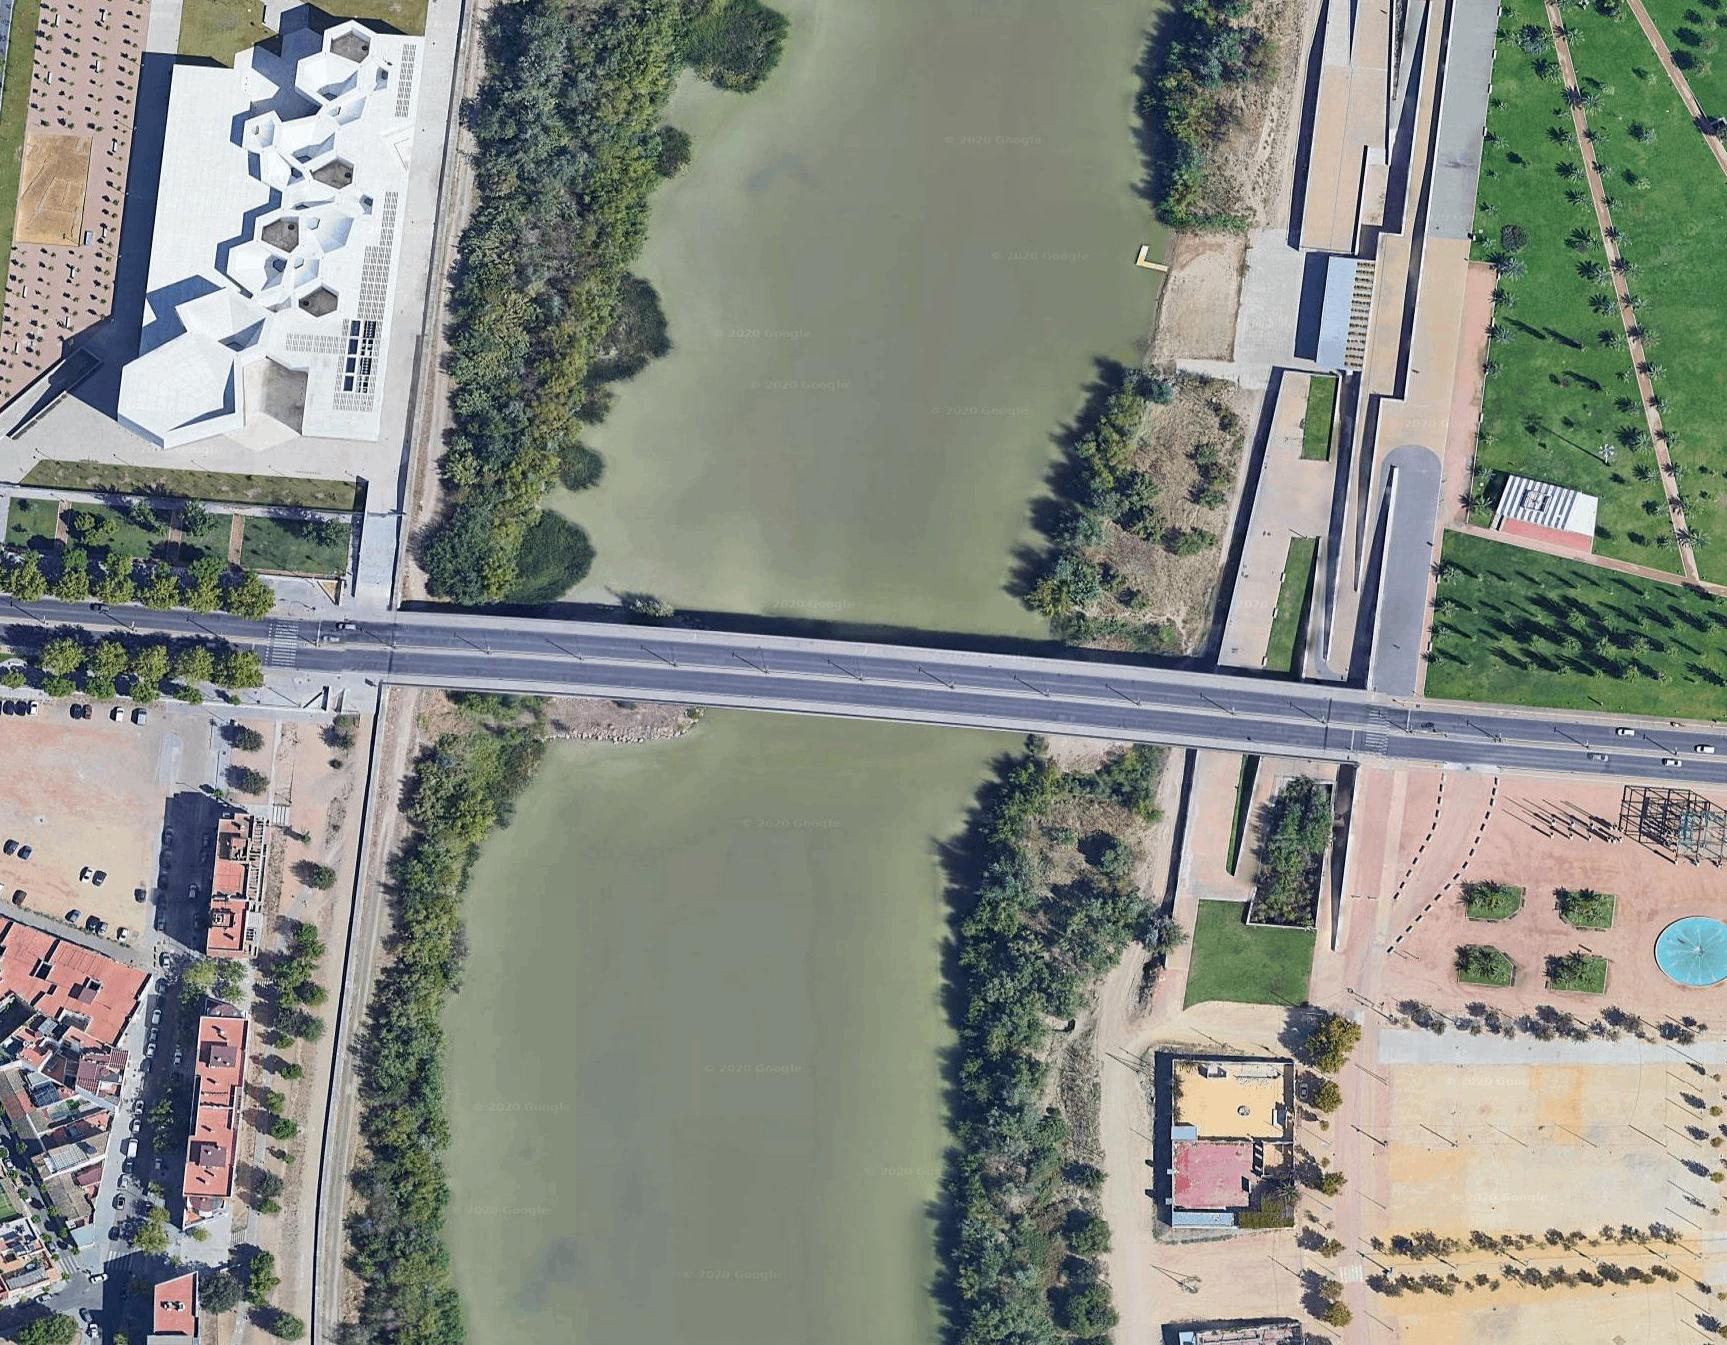bridge: (509, 561, 1200, 837)
harbor: (1133, 241, 1172, 275)
small-vehicle: (1695, 741, 1719, 762), (335, 617, 356, 635), (74, 863, 90, 881), (1615, 724, 1634, 738), (1663, 756, 1682, 770)
